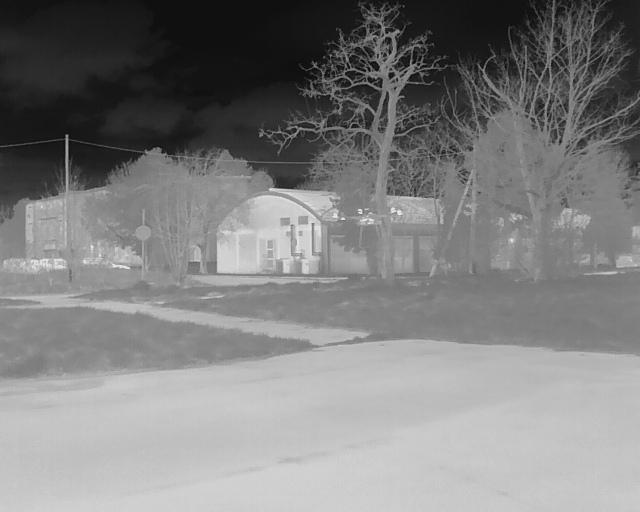drone: (327, 196, 410, 254)
